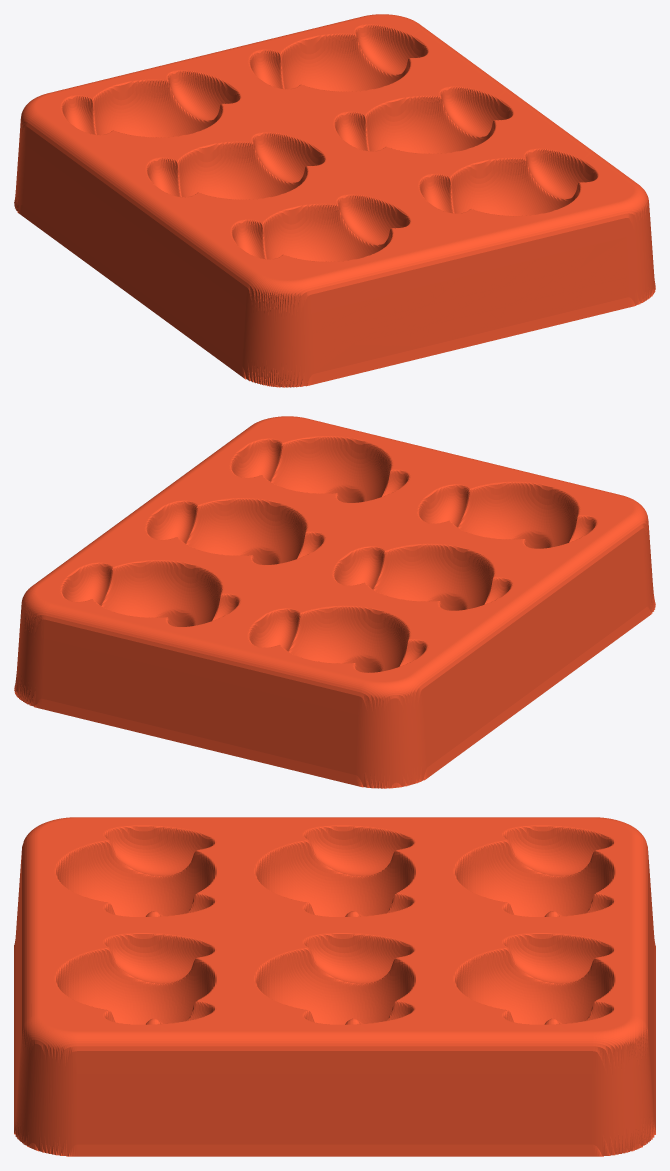
File: mold.glb
3 renders of one model, top to bottom at view 1: azimuth 30°, elevation 25°; view 2: azimuth 150°, elevation 25°; view 3: azimuth 270°, elevation 25°, orthographic. The views are drawn at different scales.
Visible parts, largest first — view 1: geometry_0; view 2: geometry_0; view 3: geometry_0.
Part boxes in pixels (x1,y1,x2,y2): geometry_0: [14, 14, 655, 387]; geometry_0: [14, 416, 655, 788]; geometry_0: [14, 817, 655, 1156].
Bounding box in the file's own units: 0.0794 × 0.0182 × 0.0922.
